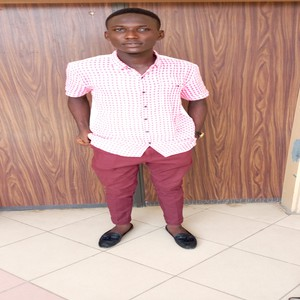Fulokoja_male_student: (82, 14, 191, 244)
